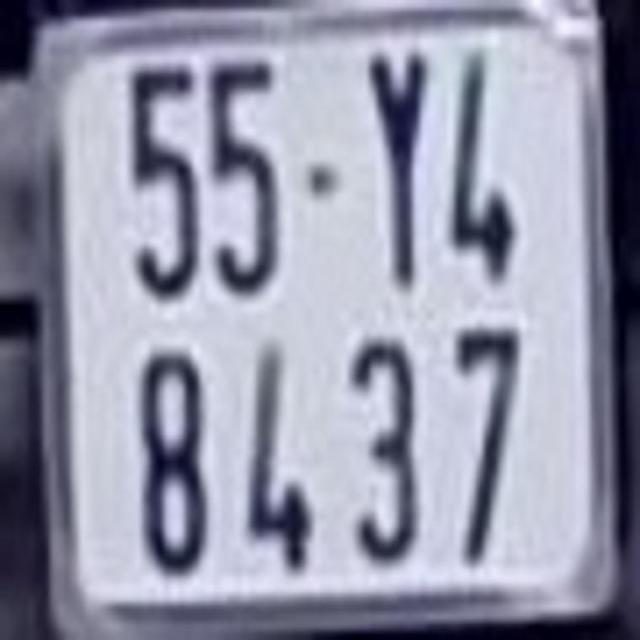3: (340, 328, 424, 565)
4: (446, 38, 520, 294), (240, 332, 317, 572)
5: (128, 63, 204, 299), (209, 58, 280, 304)
7: (452, 315, 522, 567)
8: (134, 346, 212, 580)
Y: (365, 48, 431, 290)
